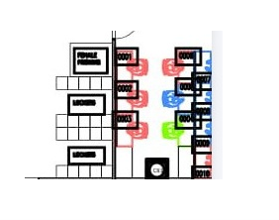Seat: (126, 119, 151, 142), (126, 86, 151, 109), (125, 54, 150, 77), (159, 54, 184, 77), (159, 86, 184, 109), (160, 117, 185, 140)
